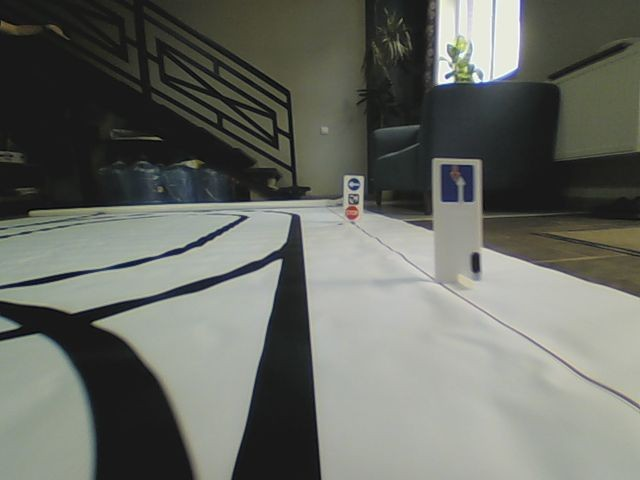priority_movement: (439, 163, 474, 203)
